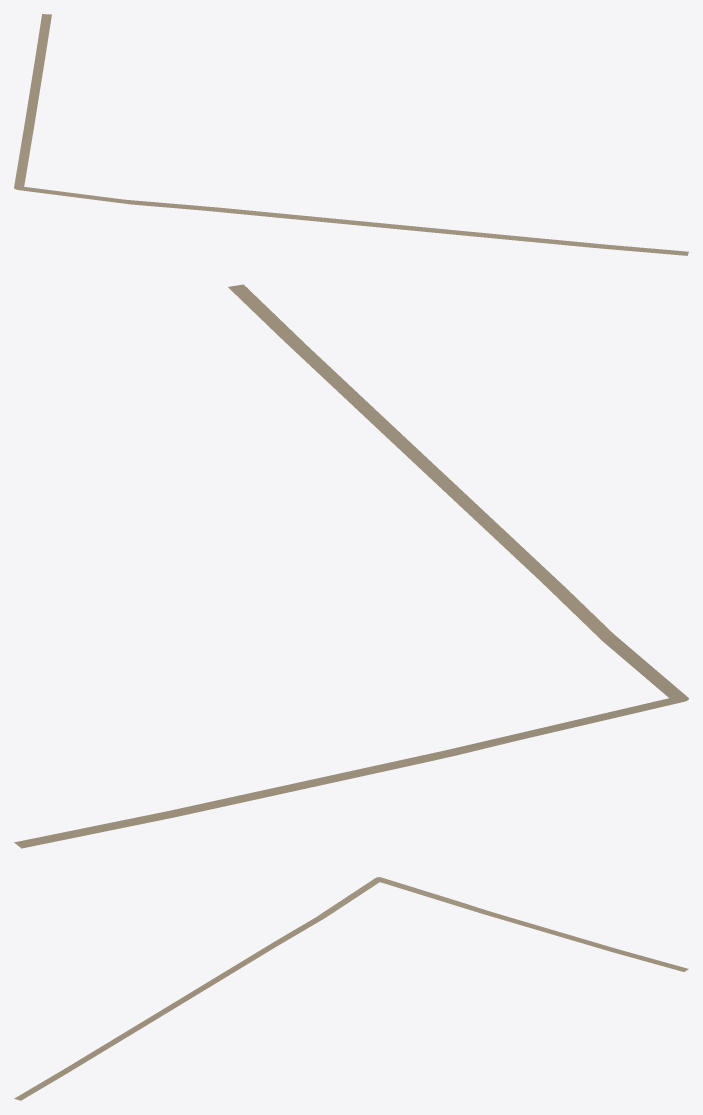
The model's file is farm_13_11_track.glb.
3 renders of one model, top to bottom at view 1: azimuth 30°, elevation 25°; view 2: azimuth 150°, elevation 25°; view 3: azimuth 270°, elevation 25°, orthographic. The views are drawn at different scales.
Visible parts, largest first — view 1: geometry_0; view 2: geometry_0; view 3: geometry_0.
Boxes of the visible parts, box(x1,y1,x2,y2) form: geometry_0: box(14, 14, 688, 255); geometry_0: box(14, 284, 688, 848); geometry_0: box(14, 877, 688, 1100).
Bounding box in the file's own units: 180 × 10.01 × 256.
